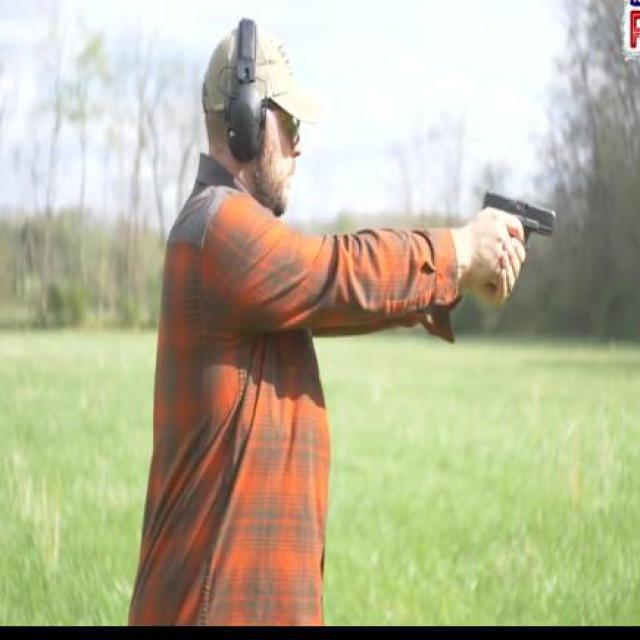gun: (475, 189, 559, 284)
